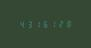eight: (65, 19, 72, 27)
four: (17, 20, 24, 28)
one: (33, 20, 40, 28), (49, 19, 56, 27)
six: (41, 20, 48, 27)
three: (25, 20, 32, 28)
two: (57, 19, 64, 27)
